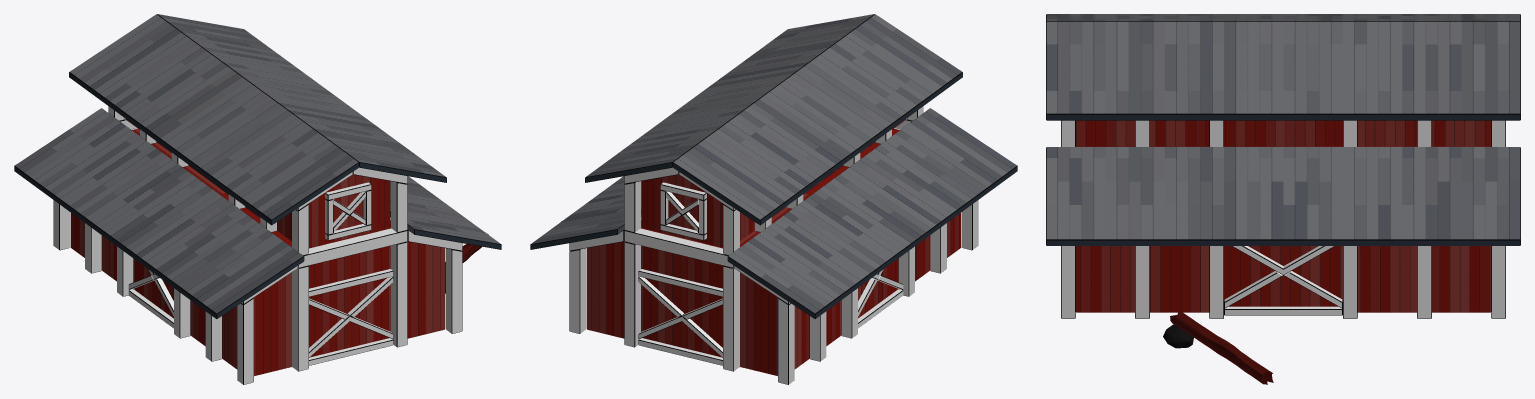
File: barn.glb
The picture shows the model from 3 angles, left to right: view 1: azimuth 30°, elevation 25°; view 2: azimuth 150°, elevation 25°; view 3: azimuth 270°, elevation 25°; orthographic projection. The views are drawn at different scales.
Visible parts, largest first — view 1: Base; view 2: Base; view 3: Base, Cylinder, Icosphere.
Part boxes in pixels (x1,y1,x2,y2): Base: (14, 14, 501, 384); Base: (530, 14, 1017, 384); Base: (1046, 14, 1520, 318); Cylinder: (1170, 311, 1273, 384); Icosphere: (1163, 324, 1193, 348).
Size of what is drawn, in the model's own units: 23.33 by 12.57 by 22.4.
7 materials, 2 textured.
